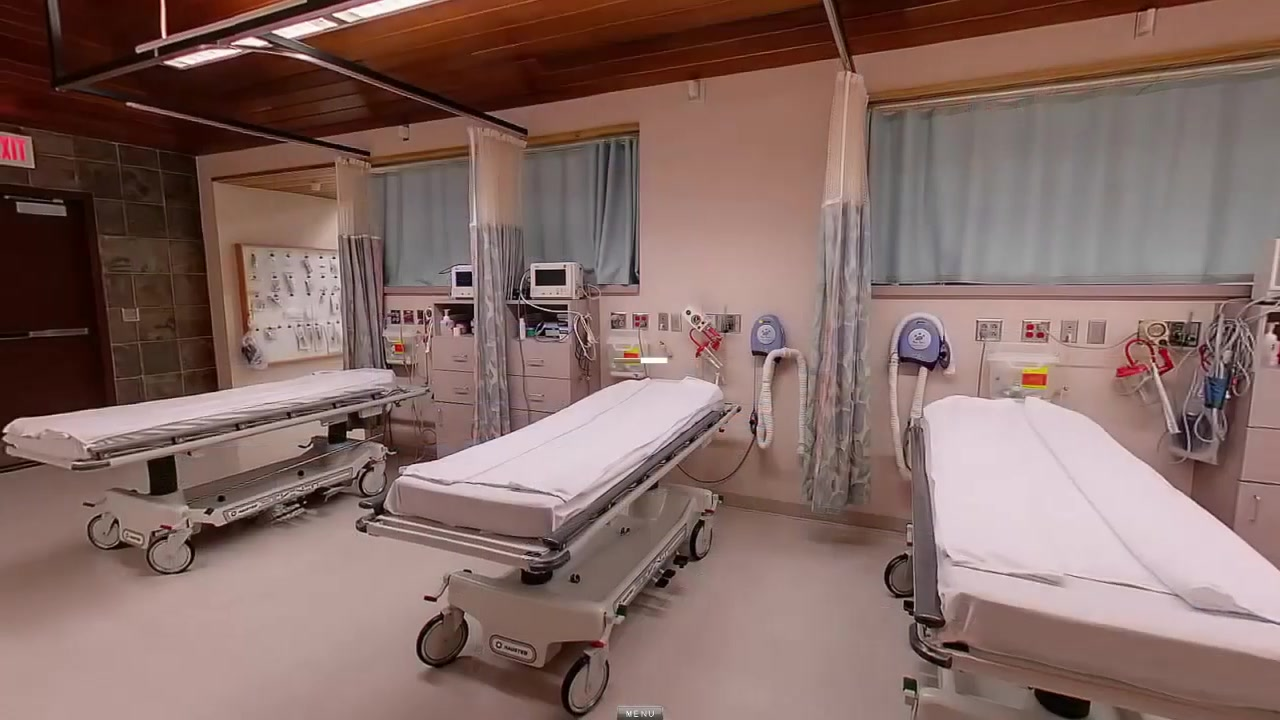bedside_monitor: (532, 261, 584, 300), (449, 265, 477, 301)
curtain: (799, 68, 875, 517), (462, 122, 529, 444), (331, 147, 388, 373)
dispenser: (441, 307, 455, 336)
handle: (1247, 493, 1262, 525), (521, 357, 547, 366), (447, 353, 469, 363), (524, 389, 546, 399), (453, 386, 470, 393), (435, 408, 442, 425)
hospital_bed: (355, 379, 741, 720), (906, 393, 1280, 720), (7, 368, 432, 571)
medical_drawer: (507, 294, 602, 413), (430, 302, 485, 457)
push_latch: (29, 328, 89, 339)
